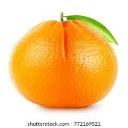orange: (10, 11, 118, 108)
